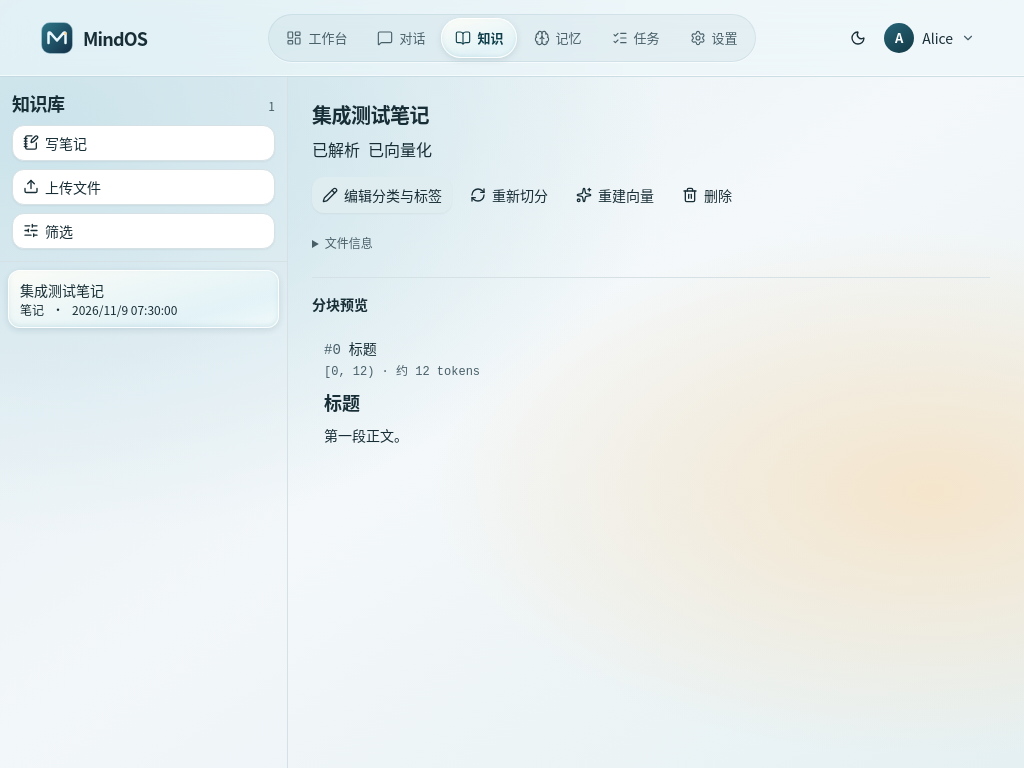
Test: 知识库页面的文档管理 › 删除需要二次确认，确认后发出 DELETE 并清空选中
Expected: the text "集成测试笔记" is shown, [20,280,104,300]
Click the button "删除": (707, 195) [672,177,742,213]
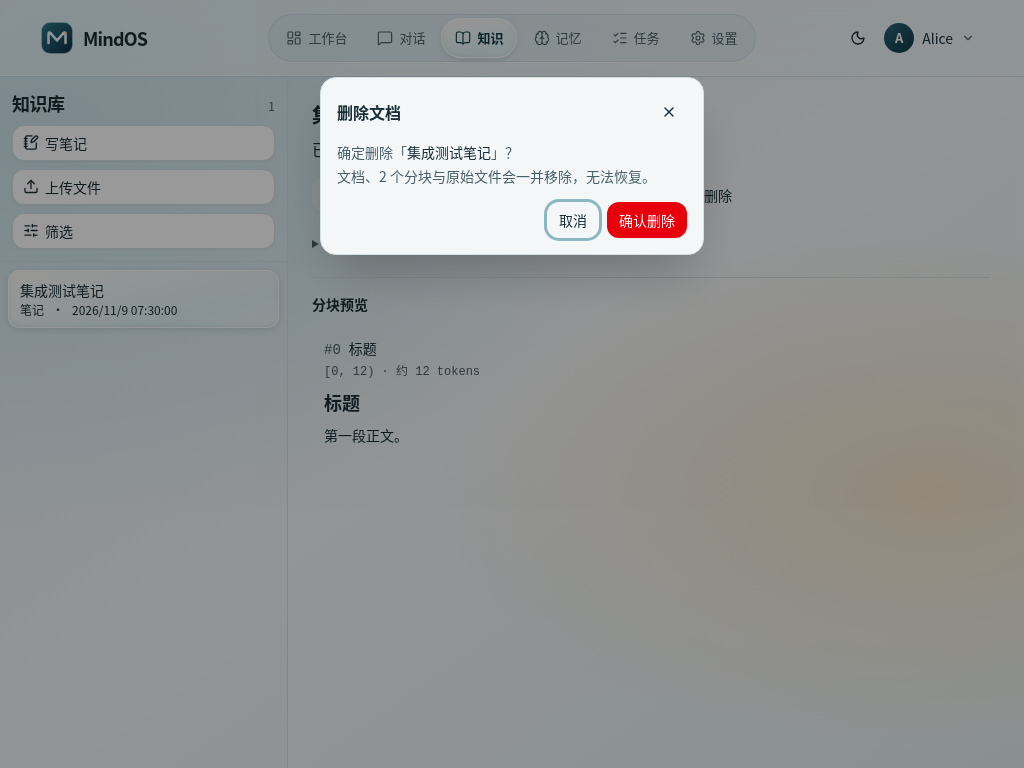
Result: the dialog "删除文档" shows "集成测试笔记" at [407,142,491,162]
Result: the dialog "删除文档" shows "原始文件会一并移除" at [337,166,656,186]
Press Escape
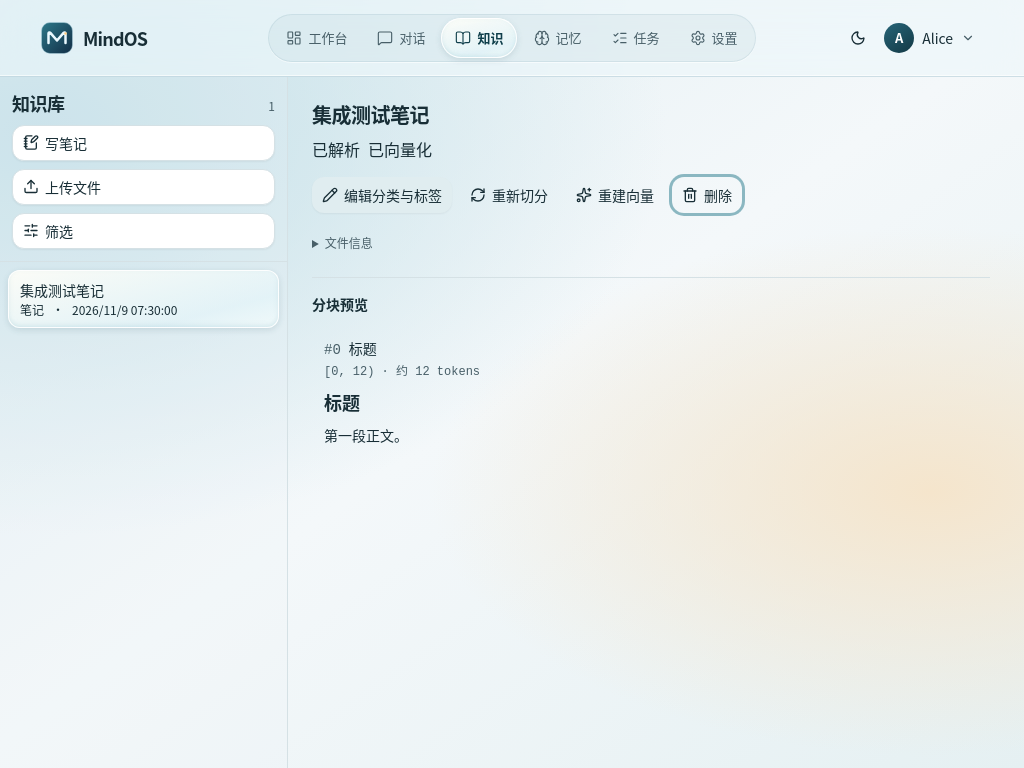
Result: the dialog is gone
Click the button "删除": (707, 195) [672,177,742,213]
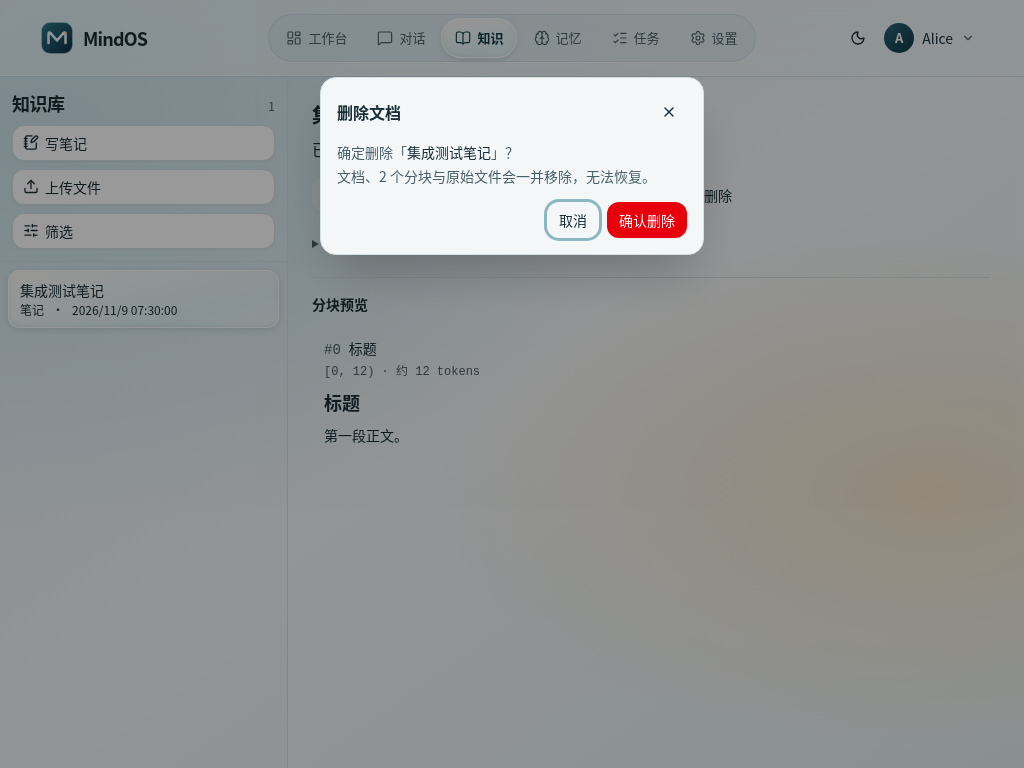
Click the button "确认删除": (647, 220) [607,202,687,238]
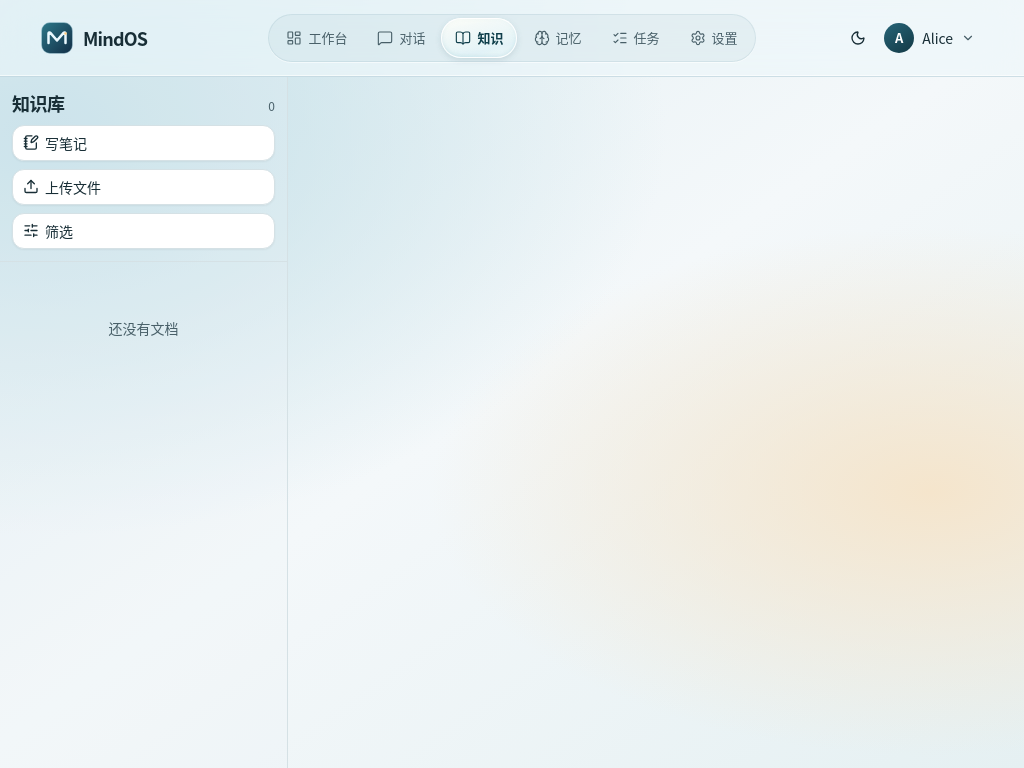
Result: the text "还没有文档" is shown at [108,318,178,338]
Result: the element "文档详情" is gone
